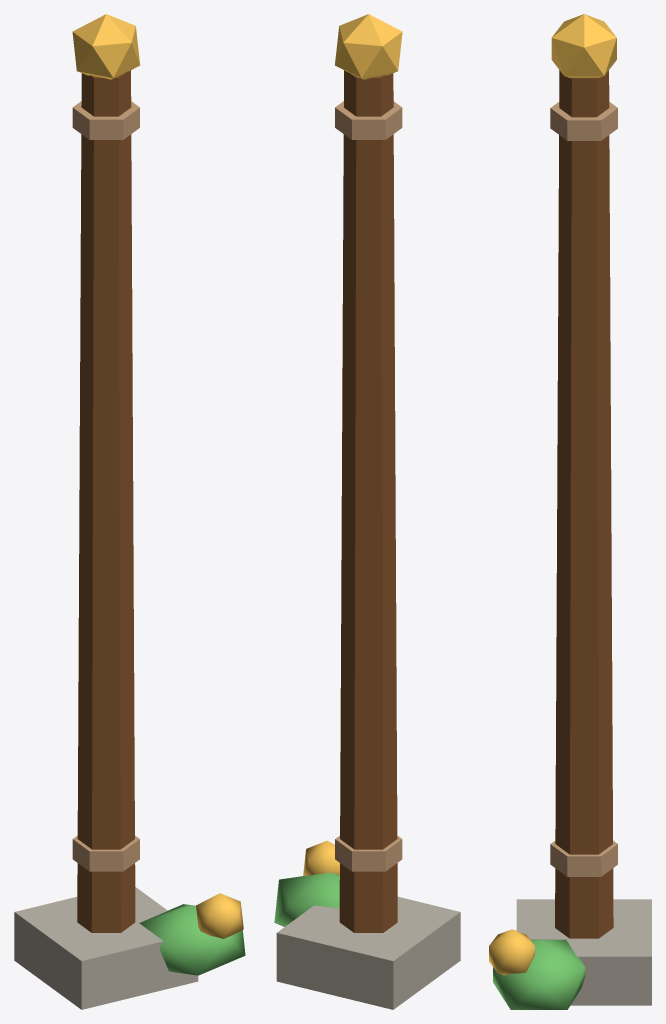
File: cot-bien-chi.glb
3 views of the same model, side by side, from view 1: azimuth 30°, elevation 25°; view 2: azimuth 150°, elevation 25°; view 3: azimuth 270°, elevation 25° (orthographic).
Parts seen in each view (by area): view 1: cot-bien-chi-1, cot-bien-chi-0, cot-bien-chi-4, cot-bien-chi-3, cot-bien-chi-2, cot-bien-chi-5; view 2: cot-bien-chi-1, cot-bien-chi-0, cot-bien-chi-3, cot-bien-chi-2, cot-bien-chi-4, cot-bien-chi-5; view 3: cot-bien-chi-1, cot-bien-chi-0, cot-bien-chi-4, cot-bien-chi-3, cot-bien-chi-2, cot-bien-chi-5.
Part boxes in pixels (box(x1,y1,x2,y2)): cot-bien-chi-1: box(77, 70, 135, 932); cot-bien-chi-0: box(14, 887, 198, 1009); cot-bien-chi-4: box(139, 904, 245, 975); cot-bien-chi-3: box(72, 14, 140, 79); cot-bien-chi-2: box(72, 101, 139, 871); cot-bien-chi-5: box(196, 893, 243, 938); cot-bien-chi-1: box(339, 70, 397, 932); cot-bien-chi-0: box(276, 896, 460, 1009); cot-bien-chi-3: box(335, 14, 402, 79); cot-bien-chi-2: box(335, 101, 402, 871); cot-bien-chi-4: box(274, 872, 339, 926); cot-bien-chi-5: box(303, 840, 339, 875); cot-bien-chi-1: box(555, 70, 613, 938); cot-bien-chi-0: box(516, 899, 651, 1005); cot-bien-chi-4: box(493, 939, 585, 1009); cot-bien-chi-3: box(551, 14, 616, 78); cot-bien-chi-2: box(550, 102, 617, 876); cot-bien-chi-5: box(489, 929, 534, 975).
Bounding box in the file's own units: 0.4388 × 2.36 × 0.361.
